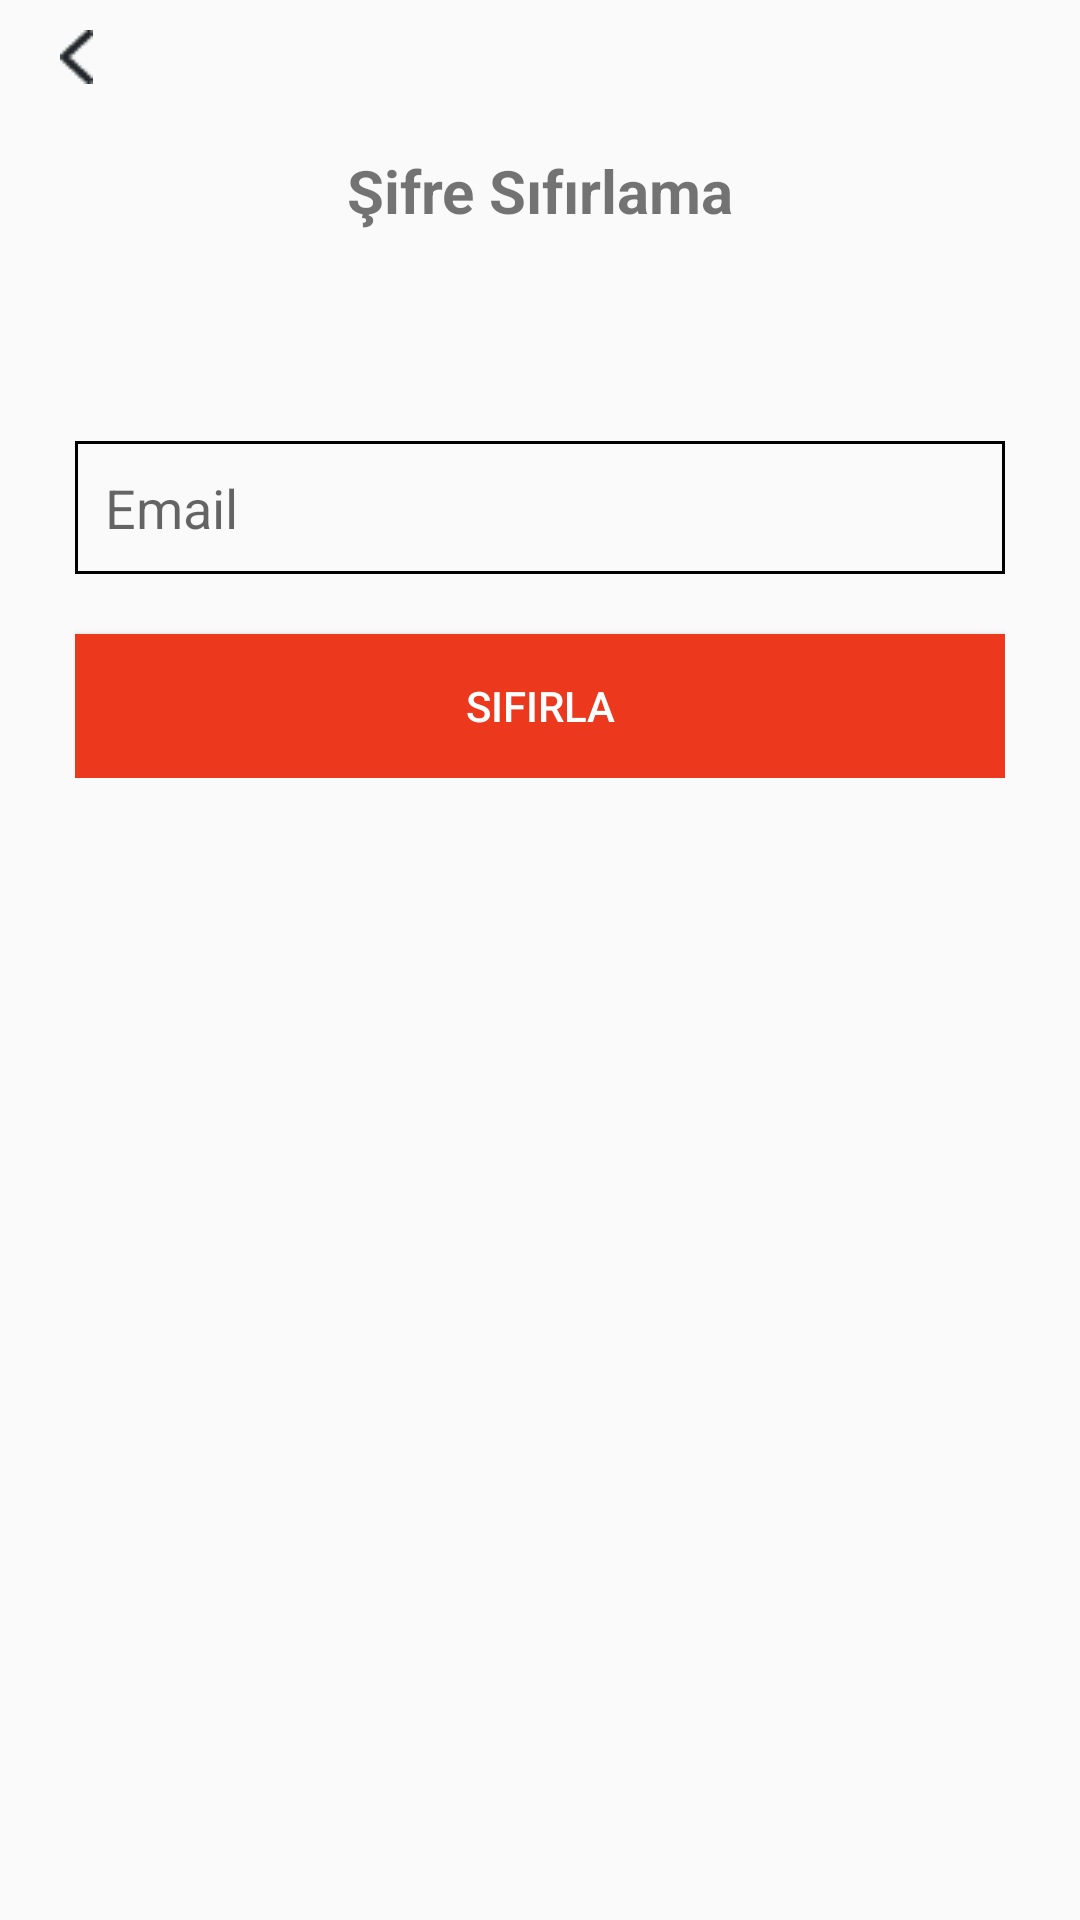

Icon click points for this 1080w x 1920h phone screenshot, format [x,y]:
back: [76,57]
